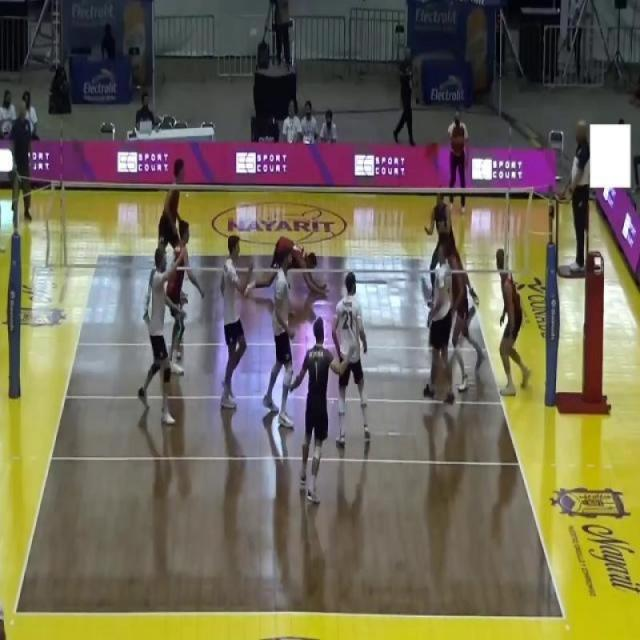volleyball: (249, 27, 258, 42)
